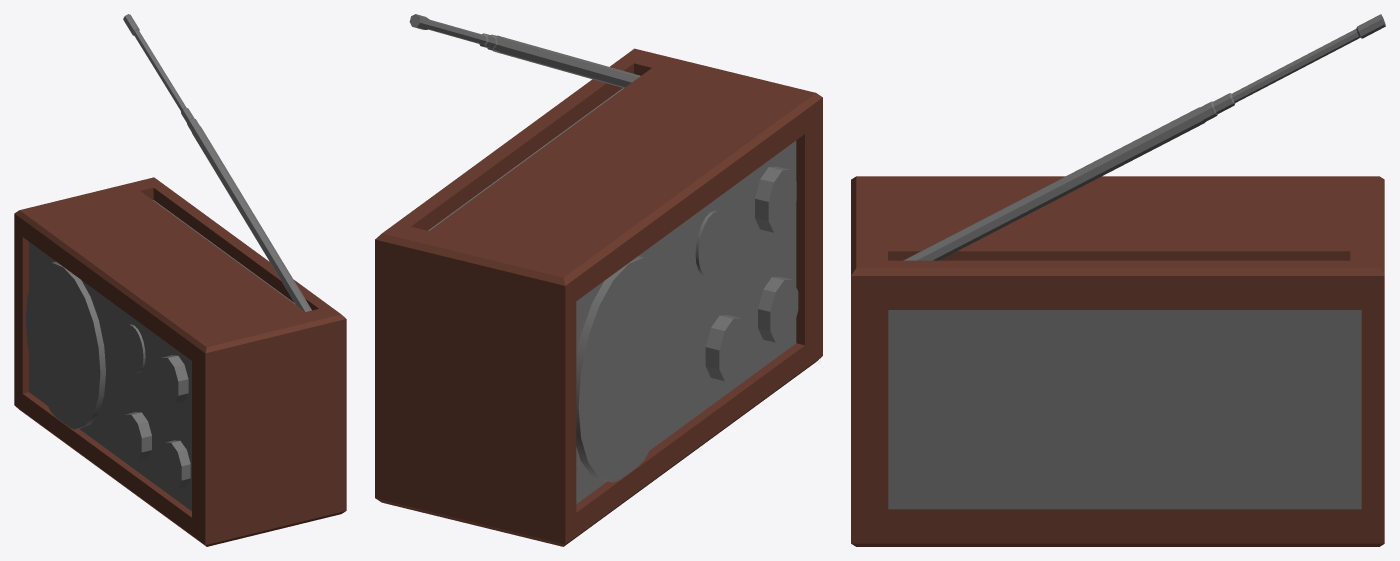
The model's file is Radio.fbx.
The picture shows the model from 3 angles, left to right: view 1: azimuth 30°, elevation 25°; view 2: azimuth 150°, elevation 25°; view 3: azimuth 270°, elevation 25°; orthographic projection. The views are drawn at different scales.
Visible parts, largest first — view 1: Radio; view 2: Radio; view 3: Radio.
Boxes of the visible parts, x1,y1,x2,y2 form: Radio: (14, 14, 346, 546); Radio: (375, 14, 822, 546); Radio: (851, 14, 1385, 546).
Bounding box in the file's own units: 48.99 × 119 × 112.
